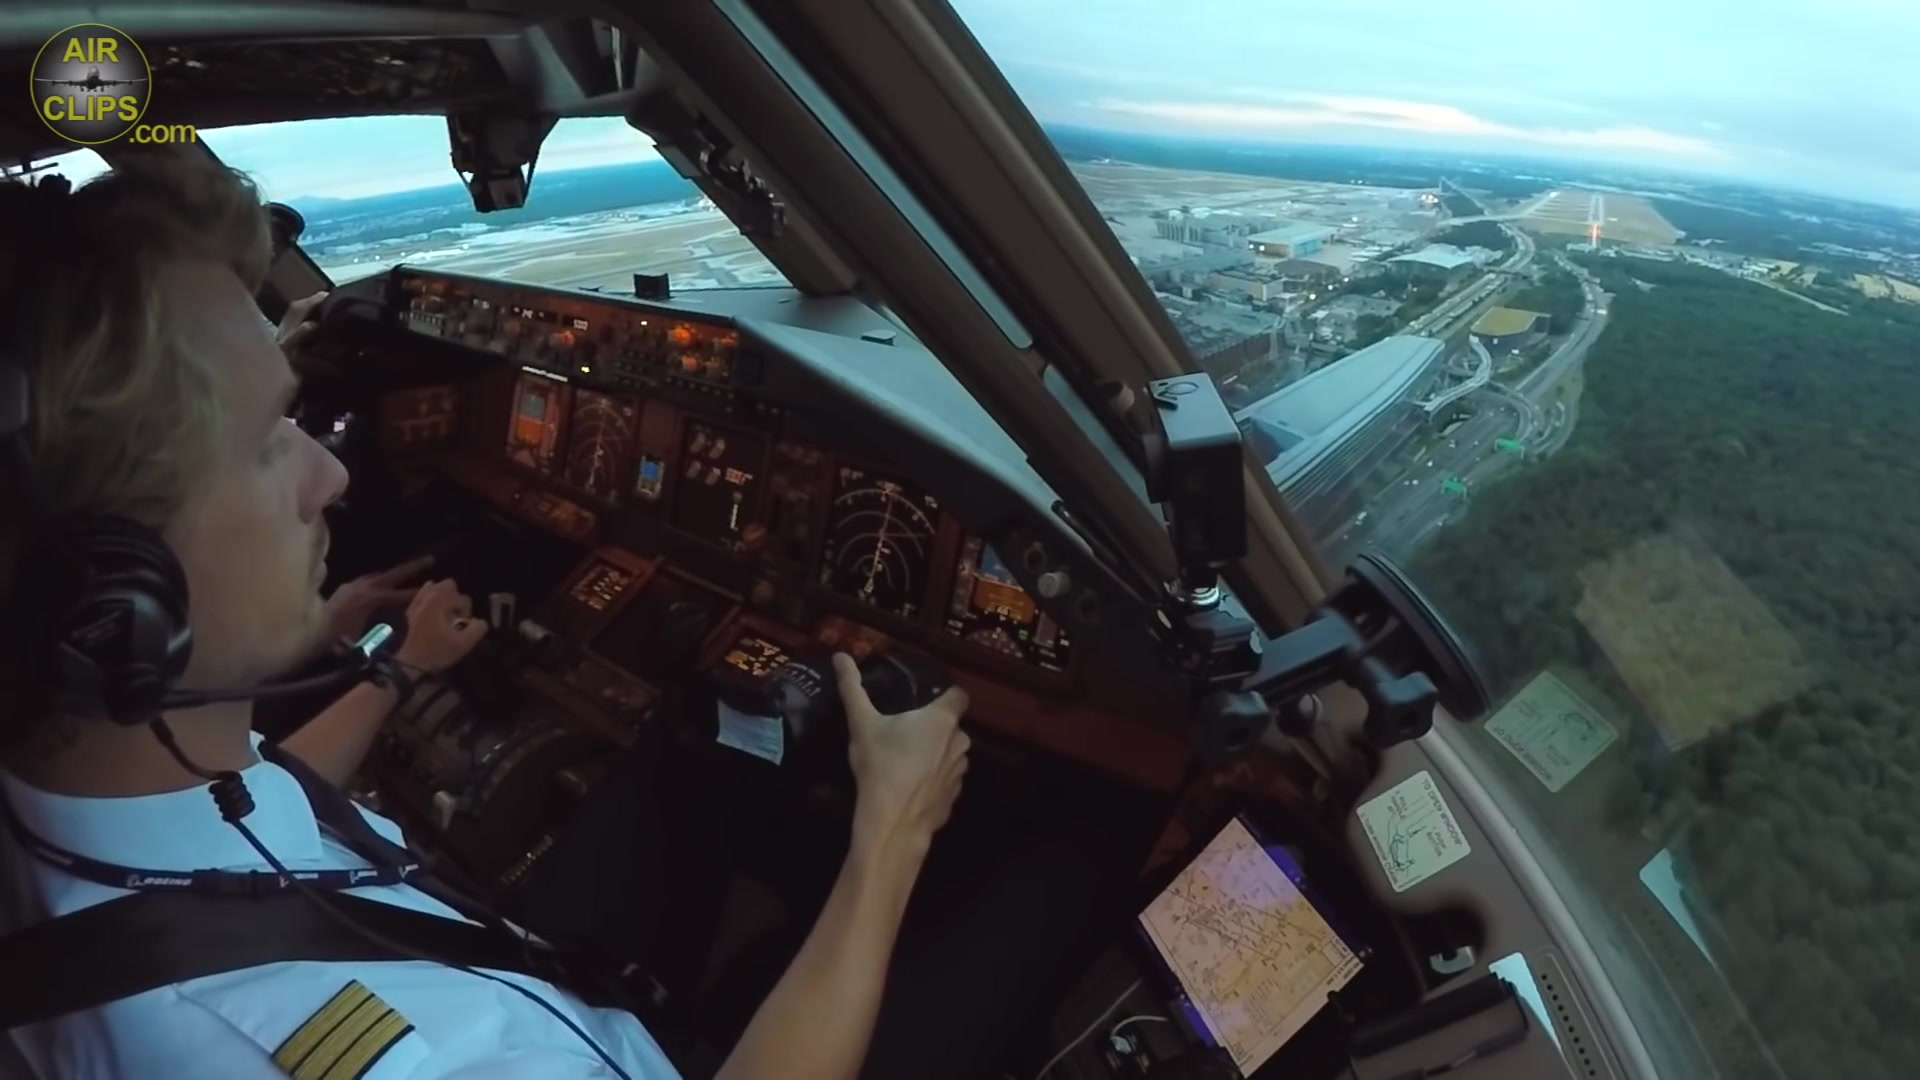runway: (1584, 193, 1607, 229)
